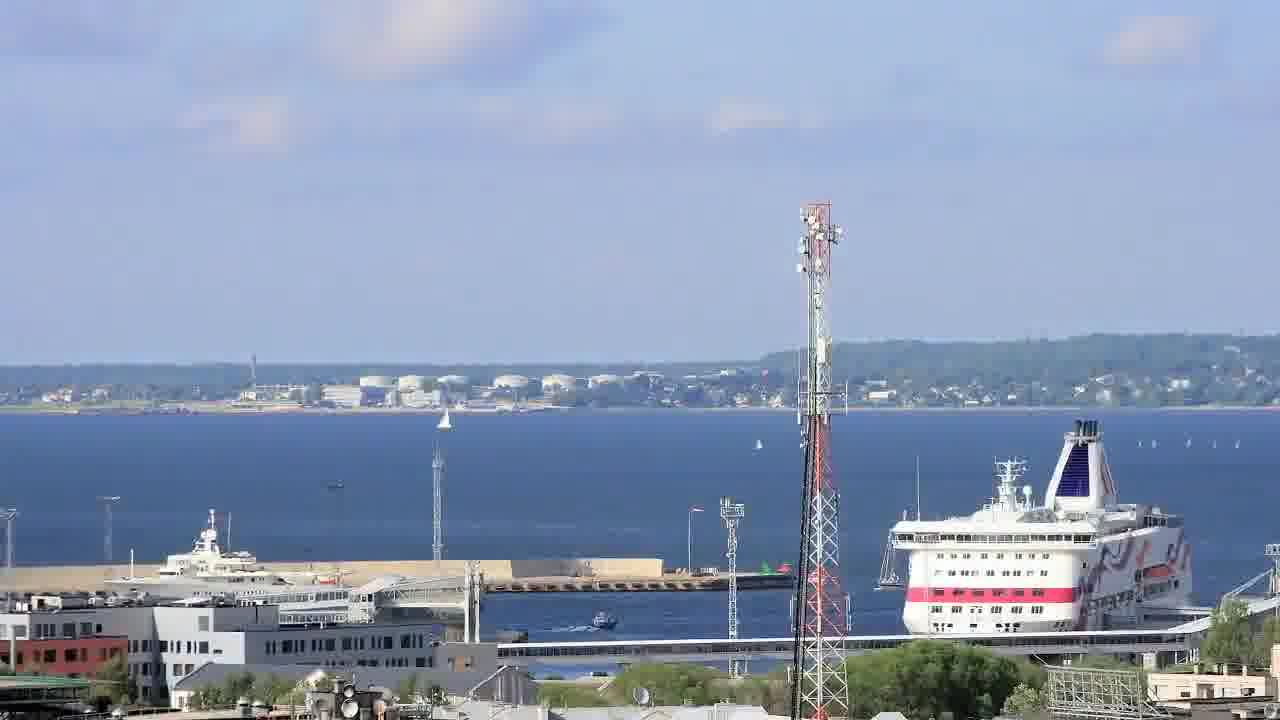type-0: (569, 597, 639, 640)
type-2: (419, 388, 476, 445)
type-3: (868, 415, 1225, 638), (84, 511, 353, 609)
